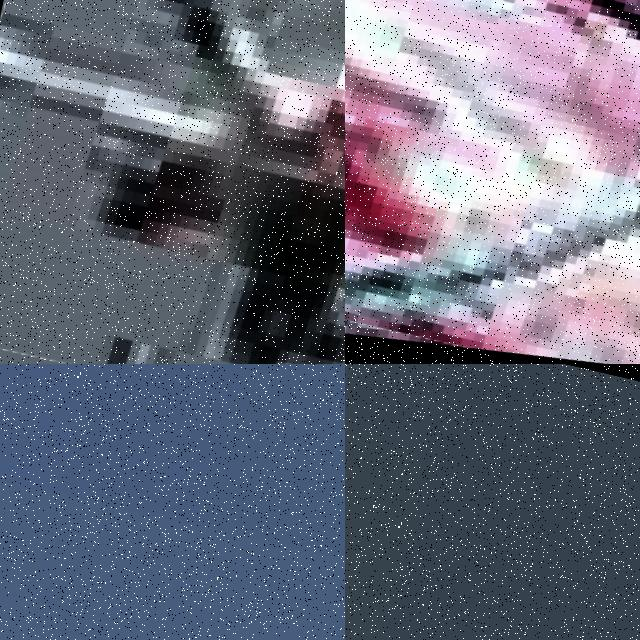0: (0, 0, 345, 364)
drone: (345, 0, 640, 364)
